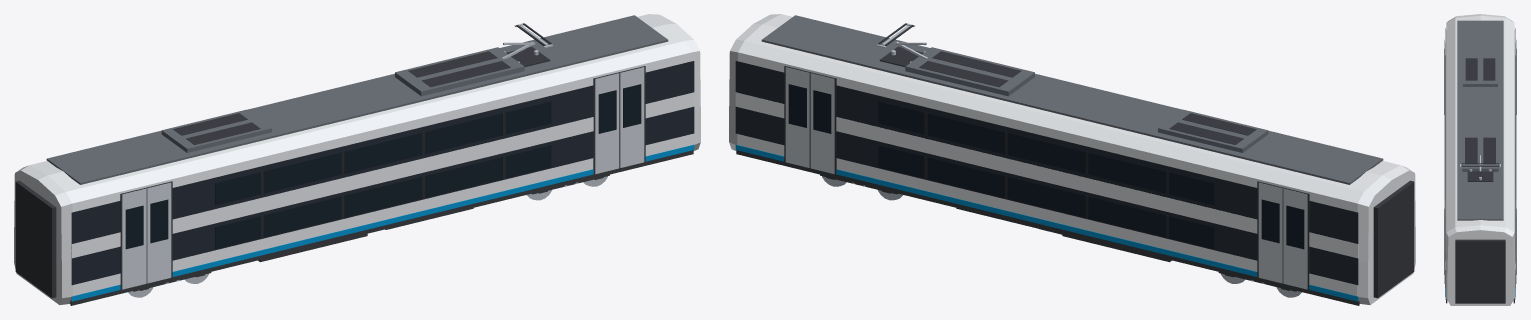
File: rer_d_z20500_car.glb
The picture shows the model from 3 angles, left to right: view 1: azimuth 30°, elevation 25°; view 2: azimuth 150°, elevation 25°; view 3: azimuth 270°, elevation 25°; orthographic projection. The views are drawn at different scales.
Visible parts, largest first — view 1: rer_d_z20500_neutral; view 2: rer_d_z20500_neutral; view 3: rer_d_z20500_neutral.
Part boxes in pixels (x1=…): rer_d_z20500_neutral: x1=14, y1=14, x2=700, y2=305; rer_d_z20500_neutral: x1=729, y1=14, x2=1415, y2=305; rer_d_z20500_neutral: x1=1444, y1=14, x2=1516, y2=305.
Size of the model in its own units: 21.34 by 4.88 by 2.97.
1 material, 1 textured.
